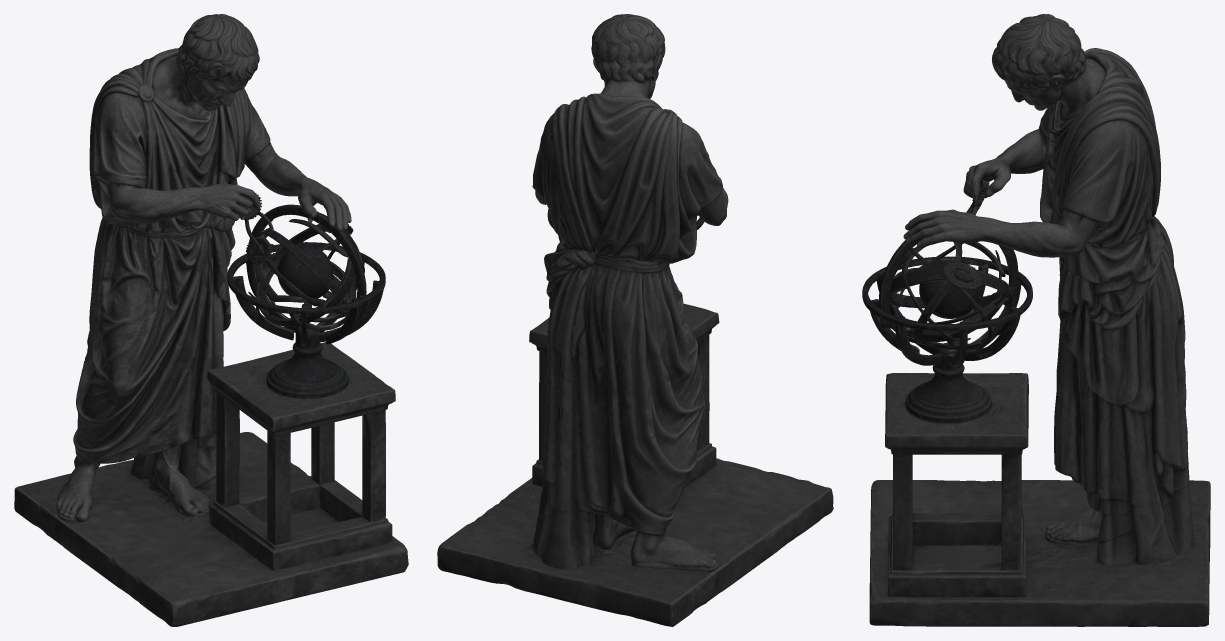
File: digital-architect.glb
3 renders of one model, left to right at view 1: azimuth 30°, elevation 25°; view 2: azimuth 150°, elevation 25°; view 3: azimuth 270°, elevation 25°, orthographic. The views are drawn at different scales.
Size of the model in its own units: 0.9085 by 1.9 by 1.09.
Materials: 1 (1 with a texture image).
